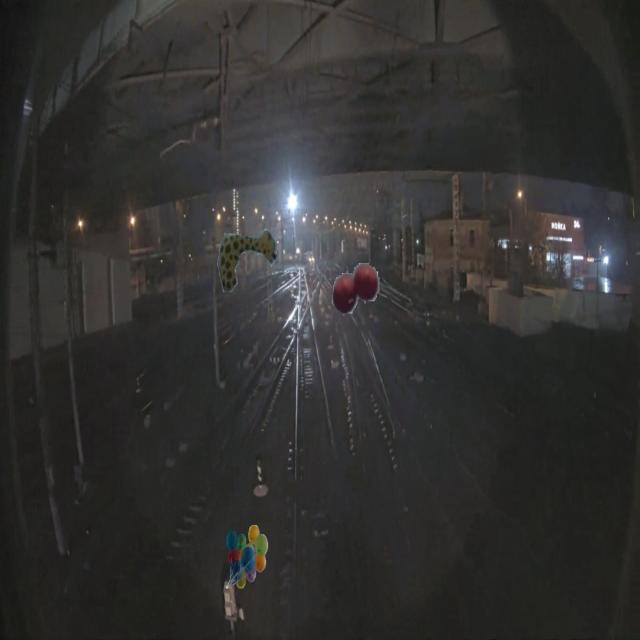balloon: (331, 253, 380, 317), (226, 524, 268, 588)
floating object: (217, 228, 277, 292)
